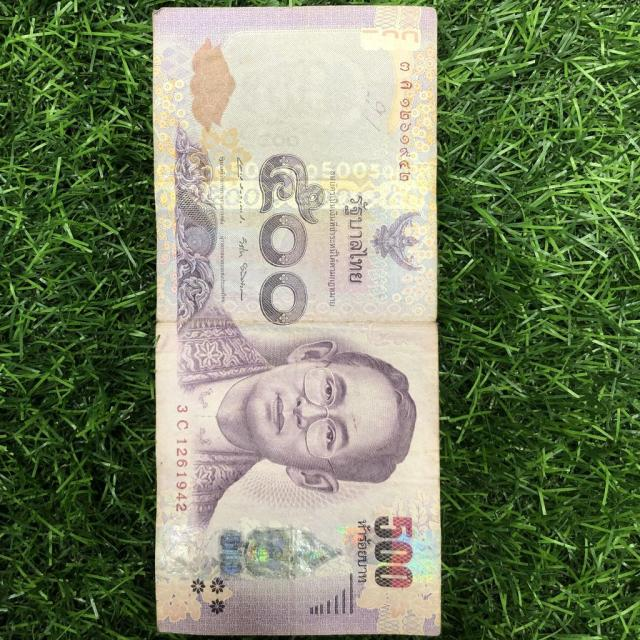THAI500: (154, 6, 439, 634)
